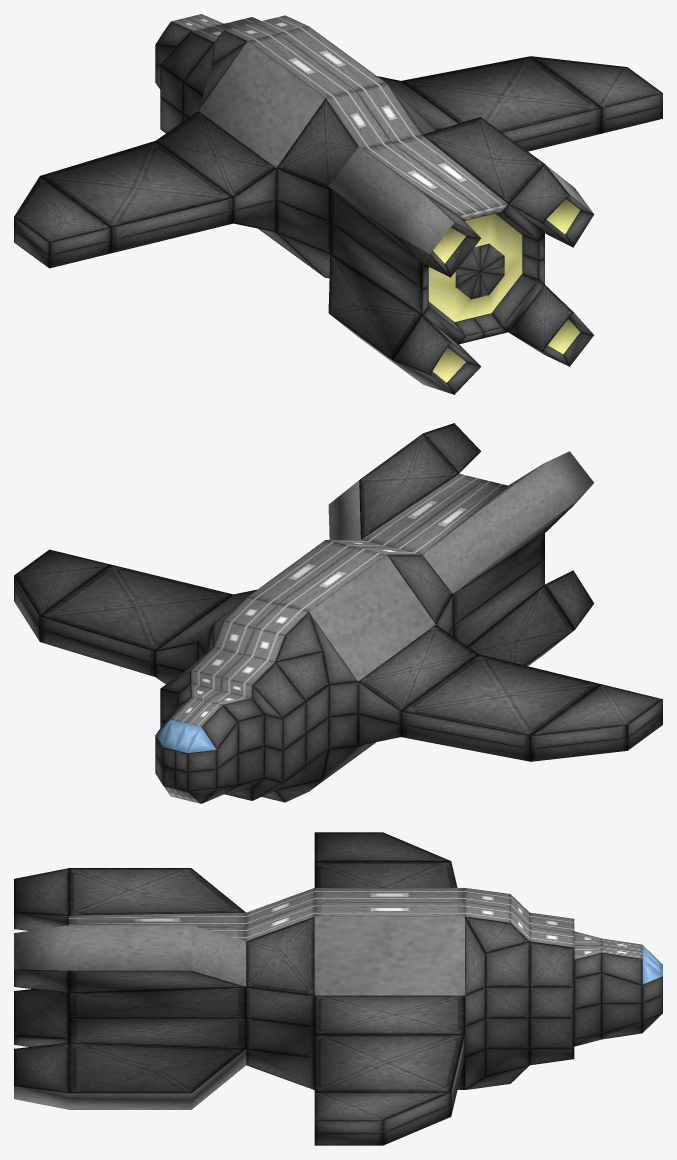
Rendered from Ship.fbx.
3 renders of one model, top to bottom at view 1: azimuth 30°, elevation 25°; view 2: azimuth 150°, elevation 25°; view 3: azimuth 270°, elevation 25°, orthographic. The views are drawn at different scales.
Visible parts, largest first — view 1: CargoX1046; view 2: CargoX1046; view 3: CargoX1046.
Boxes of the visible parts, x1,y1,x2,y2 form: CargoX1046: [14, 14, 662, 394]; CargoX1046: [14, 423, 662, 803]; CargoX1046: [14, 832, 662, 1145].
Bounding box in the file's own units: 2500 × 745 × 2375.
Materials: 10 (10 with a texture image).
